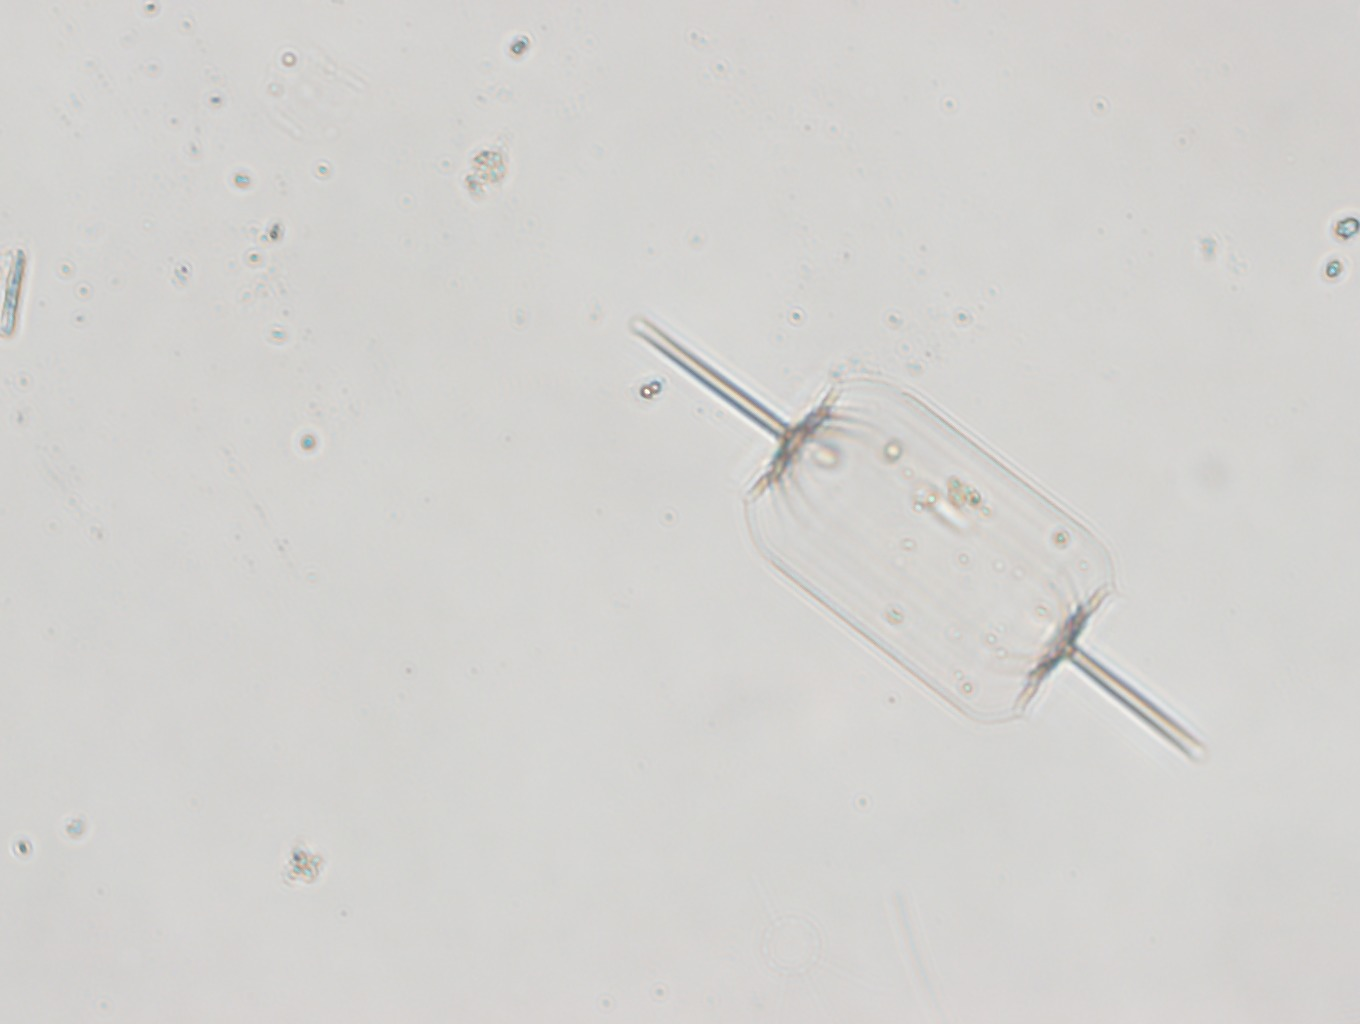ditylum: (624, 305, 1211, 771)
